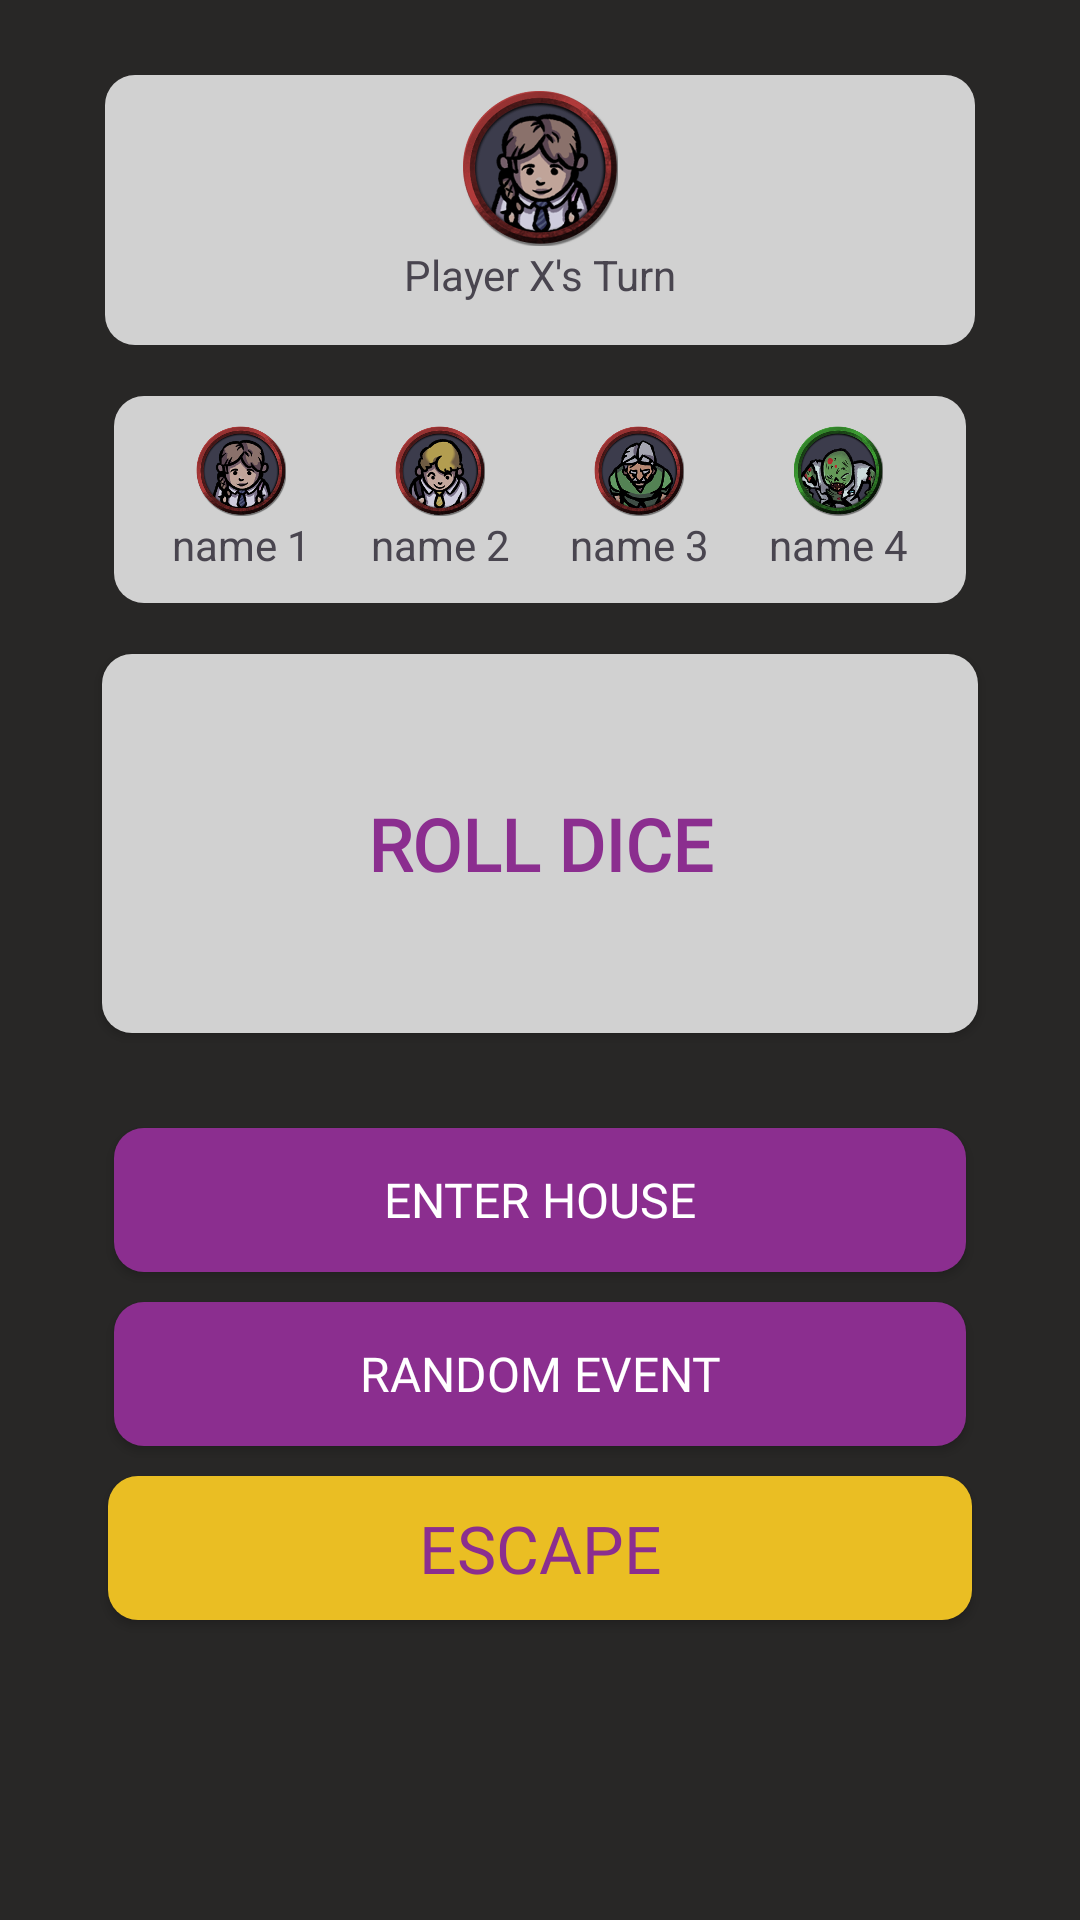

Screen size 1080w x 1920h. Icon name, then its center in pixels as [x,y]:
survivor: [540,168], [241,471], [440,471], [639,471]
